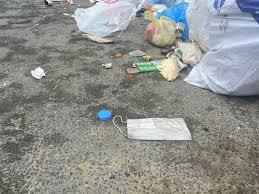Garbage: (188, 2, 258, 97), (113, 109, 199, 147), (67, 0, 150, 39), (93, 54, 188, 82), (142, 14, 179, 47), (174, 33, 201, 59), (133, 57, 163, 74), (162, 60, 181, 77), (88, 107, 108, 122), (24, 67, 48, 77), (122, 37, 124, 39)
